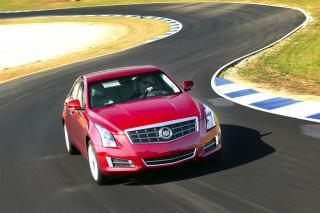cadillac: (157, 125, 175, 142)
